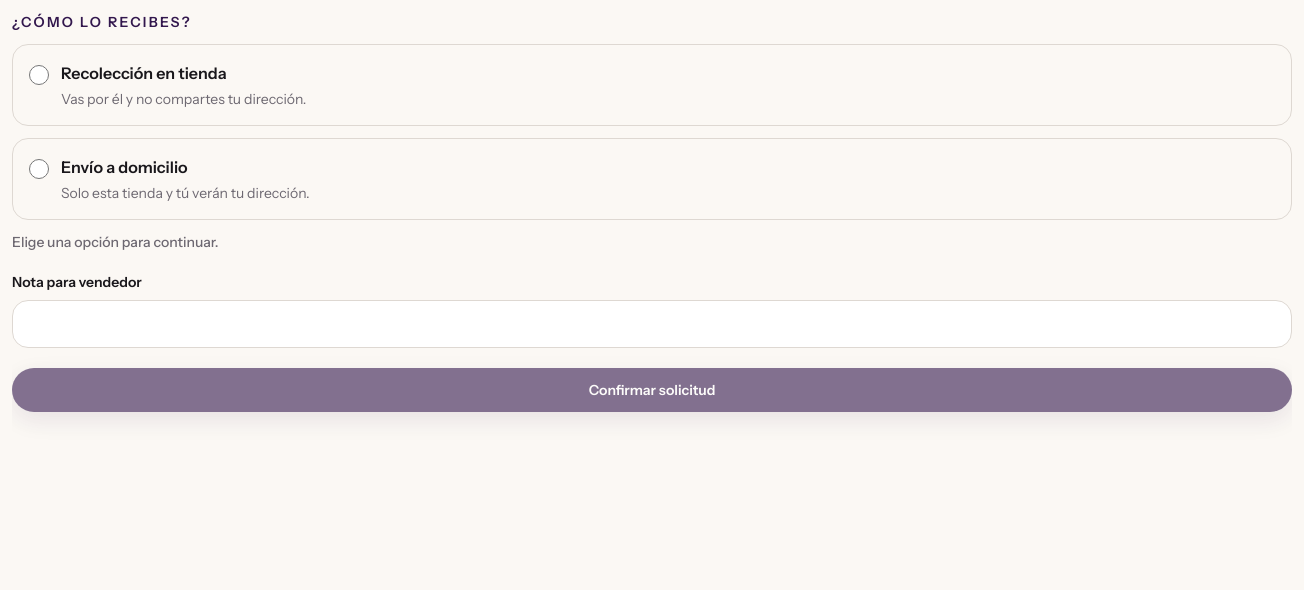
FulfillmentChoice › shows the shop's city and hides address fields when pickup is chosen
The image size is (1304, 590).
Step 1. Click the radio button labelled "Recolección en tienda" → (39, 75), box top-left (29, 65), bottom-right (49, 85)
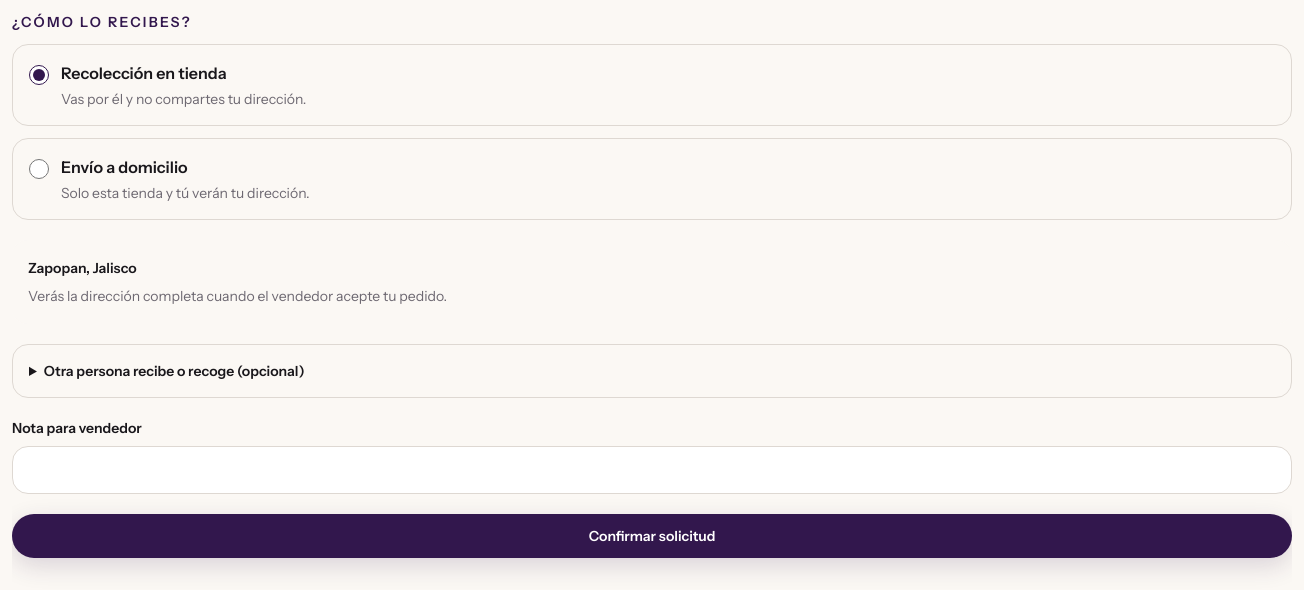
Now the text "Zapopan, Jalisco" is shown, box top-left (28, 259), bottom-right (137, 277)
Now the button "Confirmar solicitud" is enabled, box top-left (12, 514), bottom-right (1292, 558)
